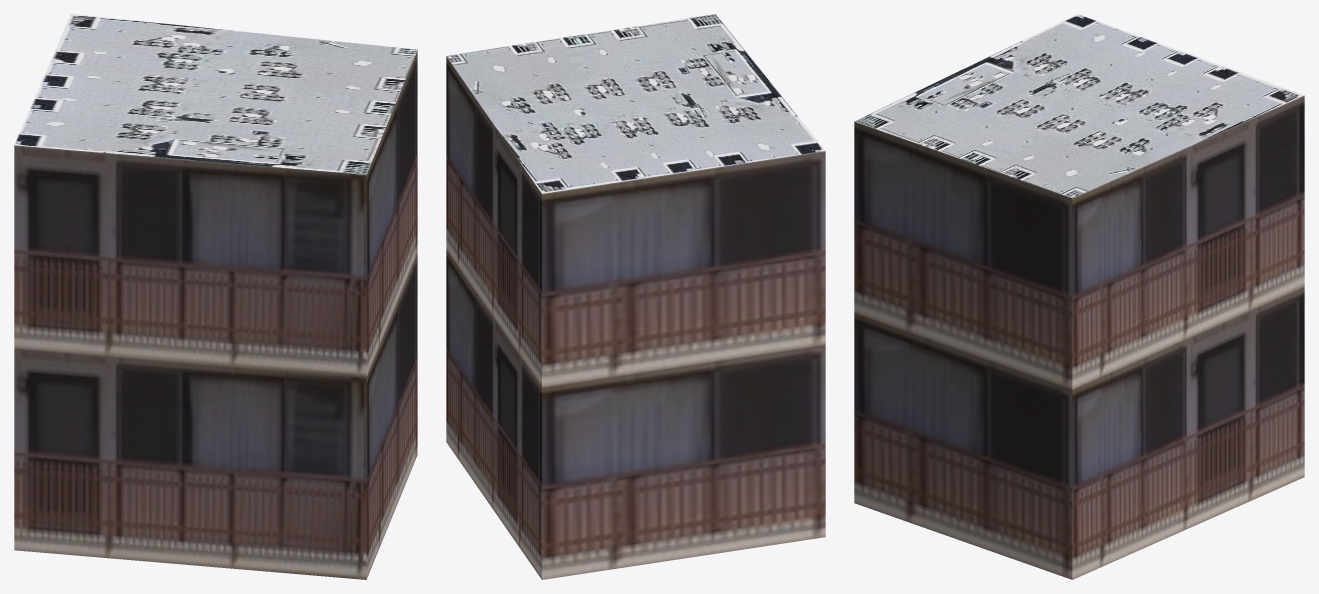
File: ResTex__462.fbx
3 views of the same model, side by side, from view 1: azimuth 30°, elevation 25°; view 2: azimuth 150°, elevation 25°; view 3: azimuth 270°, elevation 25° (orthographic). The views are drawn at different scales.
Parts seen in each view (by area): view 1: CityEngineMaterial_6_m, CityEngineMaterial_m; view 2: CityEngineMaterial_6_m, CityEngineMaterial_m; view 3: CityEngineMaterial_6_m, CityEngineMaterial_m.
Part boxes in pixels (x1,y1,x2,y2): CityEngineMaterial_6_m: [14, 50, 417, 579]; CityEngineMaterial_m: [14, 14, 417, 174]; CityEngineMaterial_6_m: [446, 56, 825, 579]; CityEngineMaterial_m: [446, 14, 825, 193]; CityEngineMaterial_6_m: [854, 95, 1304, 579]; CityEngineMaterial_m: [854, 14, 1304, 198].
Bounding box in the file's own units: 6.22 × 6 × 6.42.
2 materials, 2 textured.
